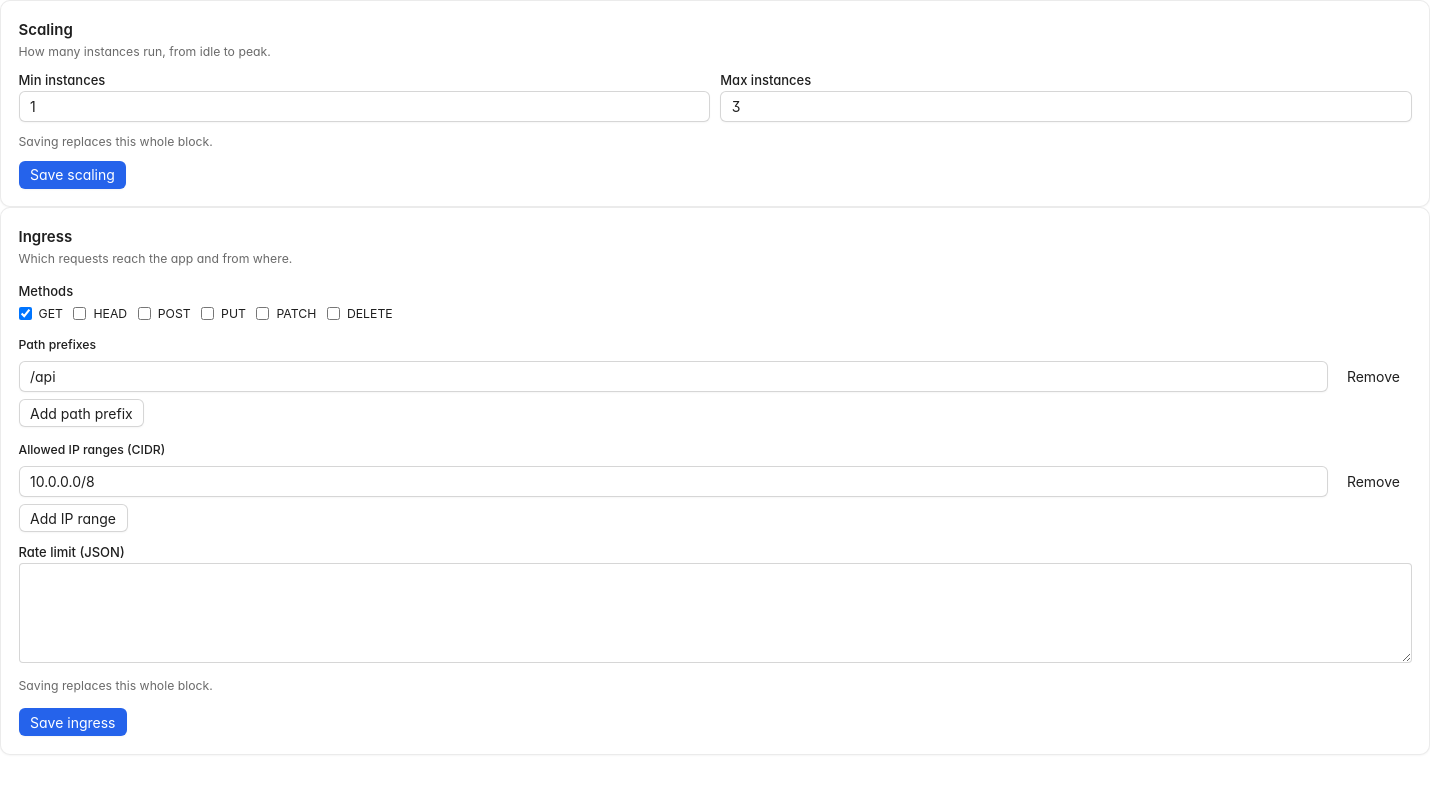
Test case: app settings › server 422 field paths land on their inputs
The image size is (1440, 810).
Step 1. Click the button "Save scaling" → (72, 175), box top-left (18, 161), bottom-right (126, 189)
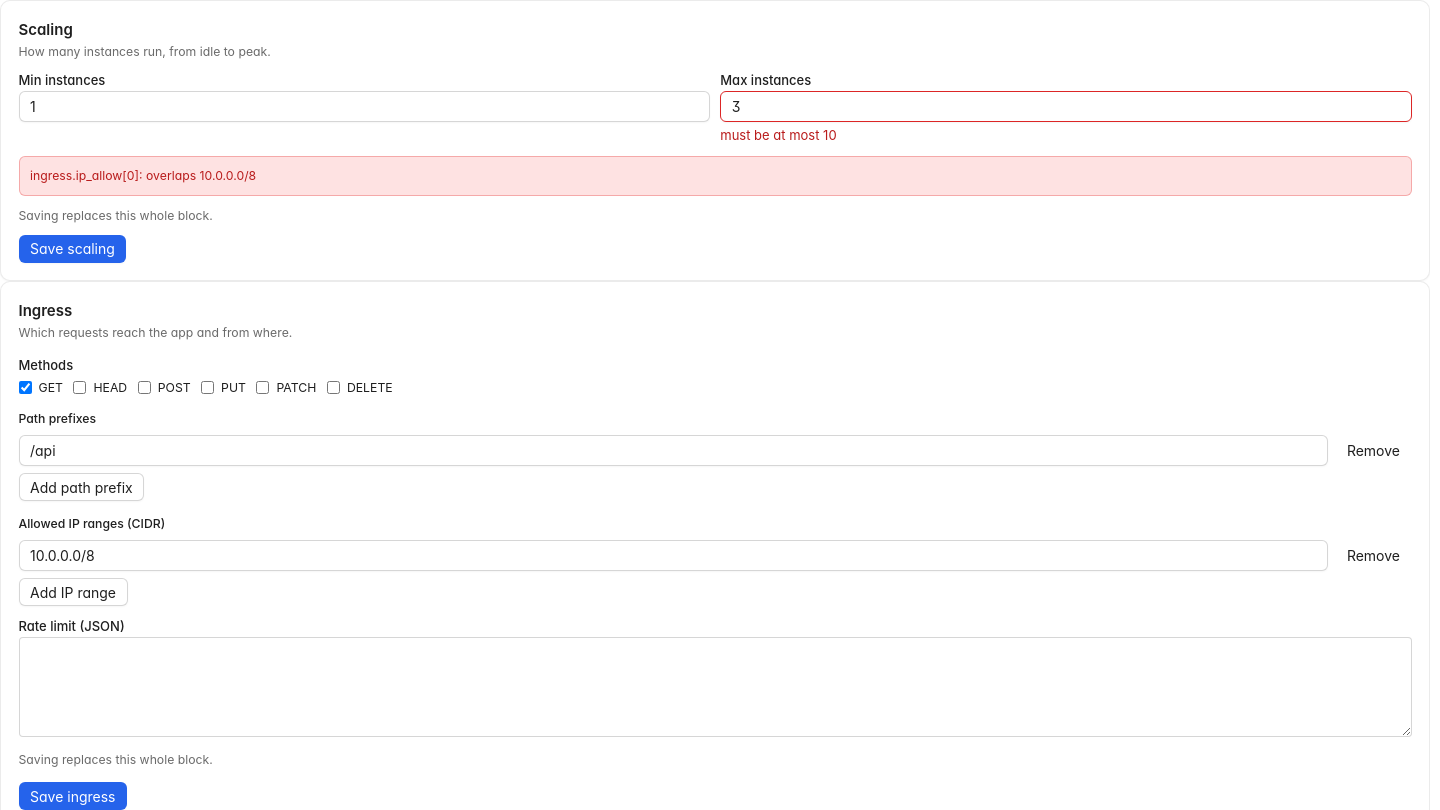
Expected: the text "must be at most 10" is shown, top-left (720, 127), bottom-right (837, 143)
Step 2. Click the button "Save ingress" → (73, 796), box top-left (18, 782), bottom-right (127, 809)
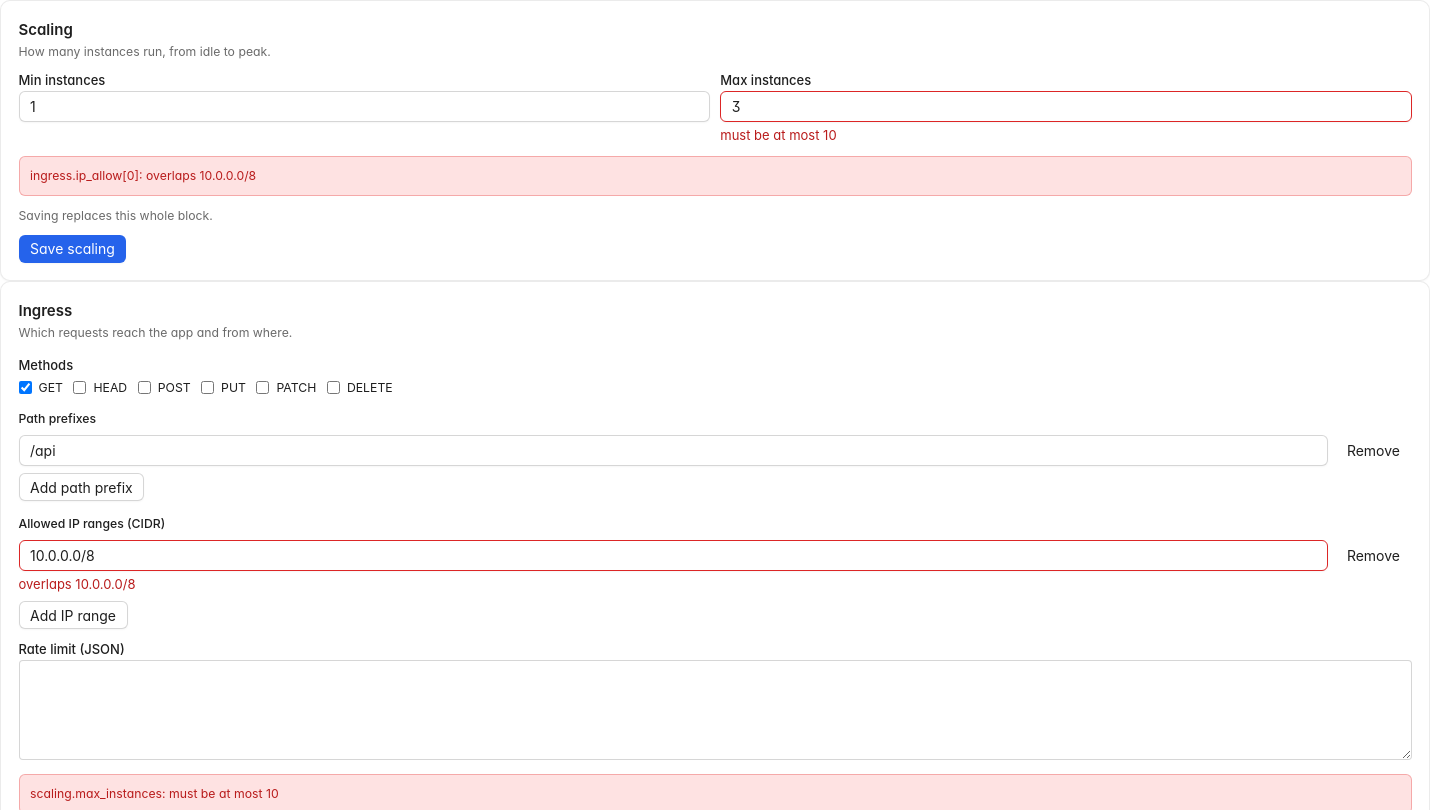
Expected: the text "overlaps 10.0.0.0/8" is shown, top-left (18, 576), bottom-right (135, 592)
